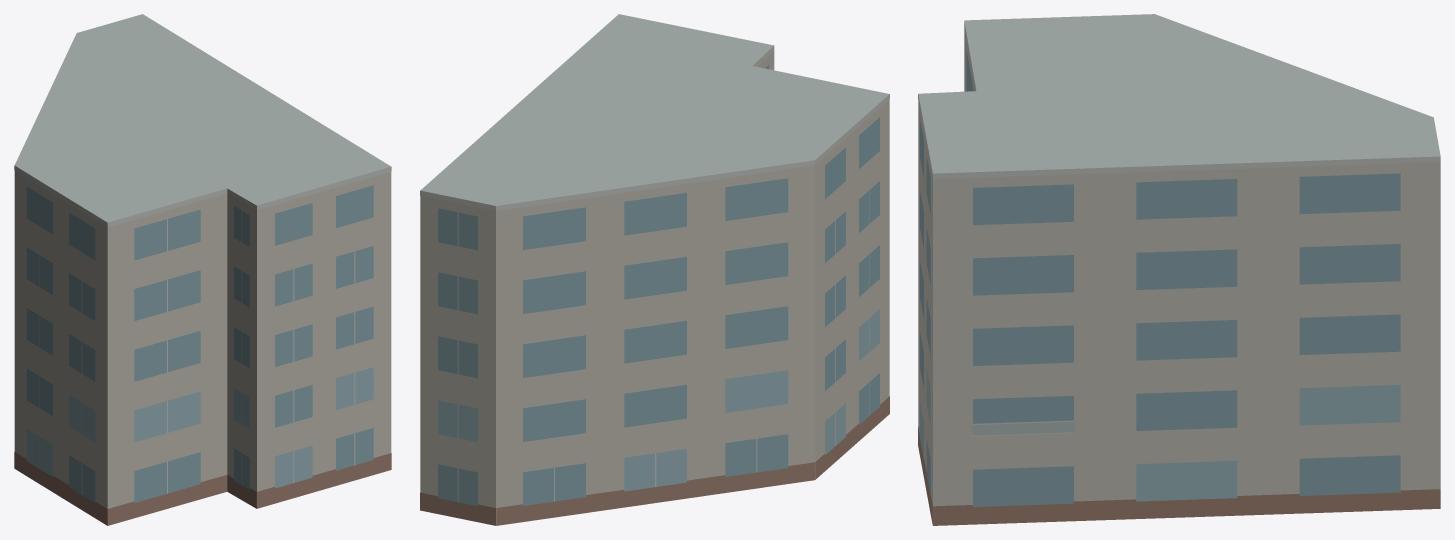
Rendered from survey-upis-33011458.glb.
3 renders of one model, left to right at view 1: azimuth 30°, elevation 25°; view 2: azimuth 150°, elevation 25°; view 3: azimuth 270°, elevation 25°, orthographic. The views are drawn at different scales.
Visible parts, largest first — view 1: survey-upis-33011458.tmp; view 2: survey-upis-33011458.tmp; view 3: survey-upis-33011458.tmp.
Part boxes in pixels (x1=…): survey-upis-33011458.tmp: x1=14, y1=14, x2=391, y2=525; survey-upis-33011458.tmp: x1=420, y1=14, x2=889, y2=525; survey-upis-33011458.tmp: x1=918, y1=14, x2=1440, y2=525.
Size of the model in its own units: 14.82 by 15.25 by 20.51.
